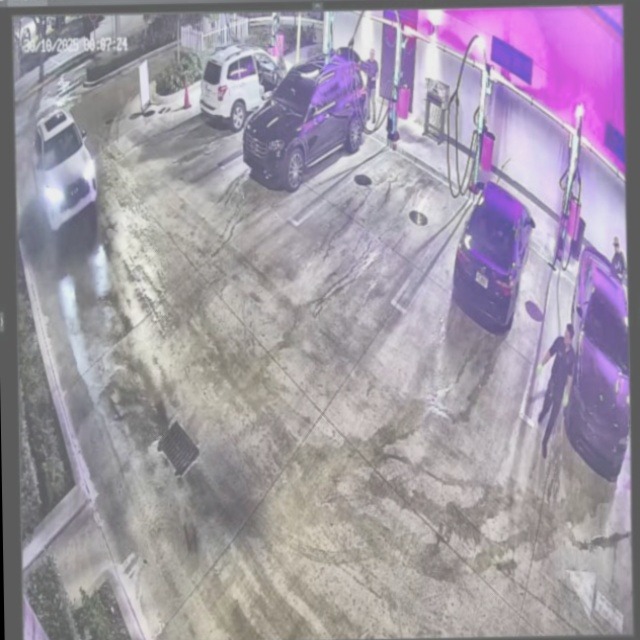Car: (242, 37, 366, 186), (453, 178, 534, 326)
